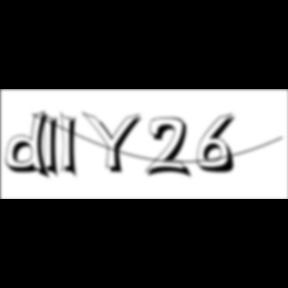2: (146, 117, 196, 181)
6: (196, 112, 242, 176)
I: (42, 110, 66, 182), (61, 110, 85, 182)
Y: (82, 110, 148, 176)
d: (6, 110, 56, 182)
